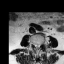CCS_normal: (36, 42, 38, 52)
LFS_stenosis: (40, 40, 42, 47)
LLS_normal: (38, 42, 40, 49)
RFS_stenosis: (32, 40, 34, 47)
RLS_normal: (34, 42, 36, 49)
